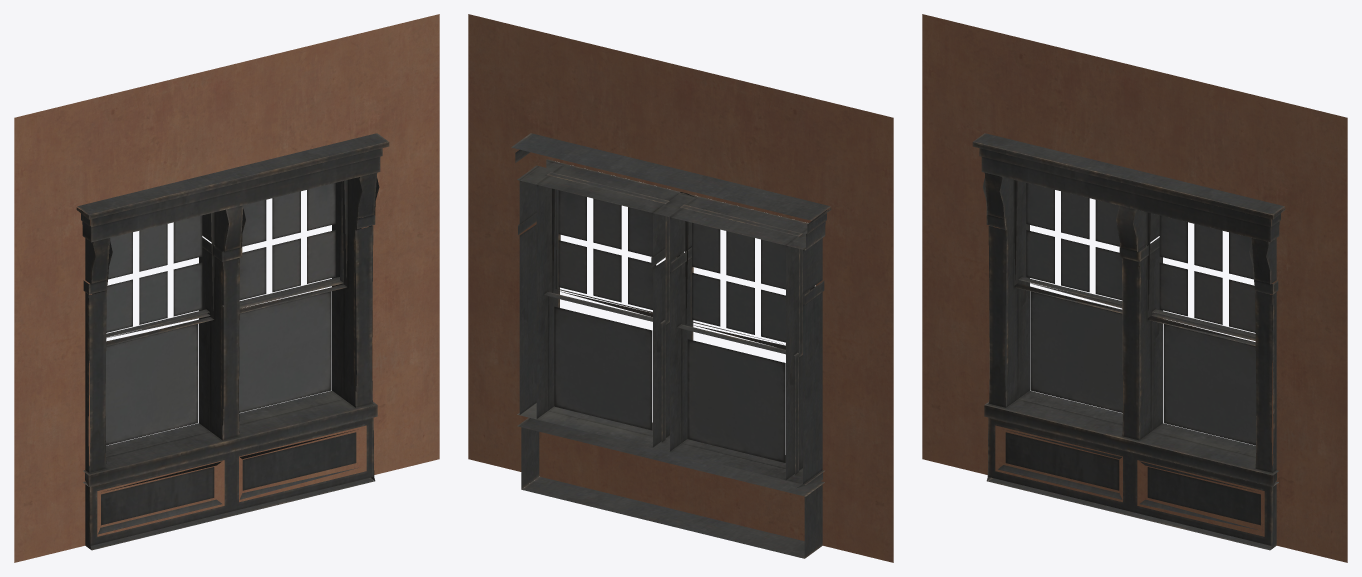
File: bay_window_a_lo.gltf
3 views of the same model, side by side, from view 1: azimuth 30°, elevation 25°; view 2: azimuth 150°, elevation 25°; view 3: azimuth 330°, elevation 25° (orthographic).
Visible parts, largest first — view 1: bay_window_a_lo; view 2: bay_window_a_lo; view 3: bay_window_a_lo.
Boxes of the visible parts, left/top/right/bottom form: bay_window_a_lo: left=14, top=14, right=439, bottom=562; bay_window_a_lo: left=468, top=14, right=893, bottom=562; bay_window_a_lo: left=922, top=14, right=1347, bottom=562.
Bounding box in the file's own units: 3 × 3 × 0.389.
Materials: 3 (3 with a texture image).
